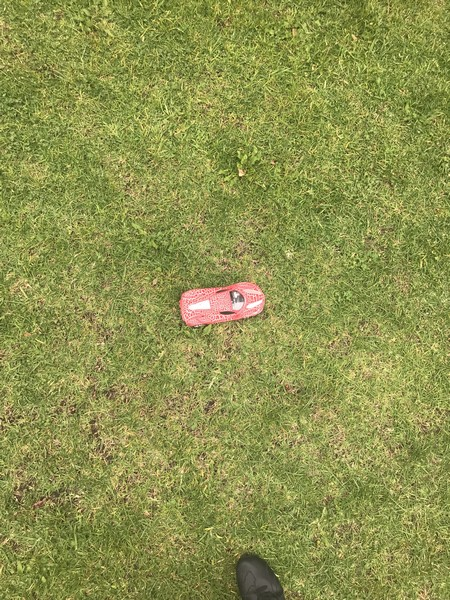RC: (178, 280, 266, 327)
